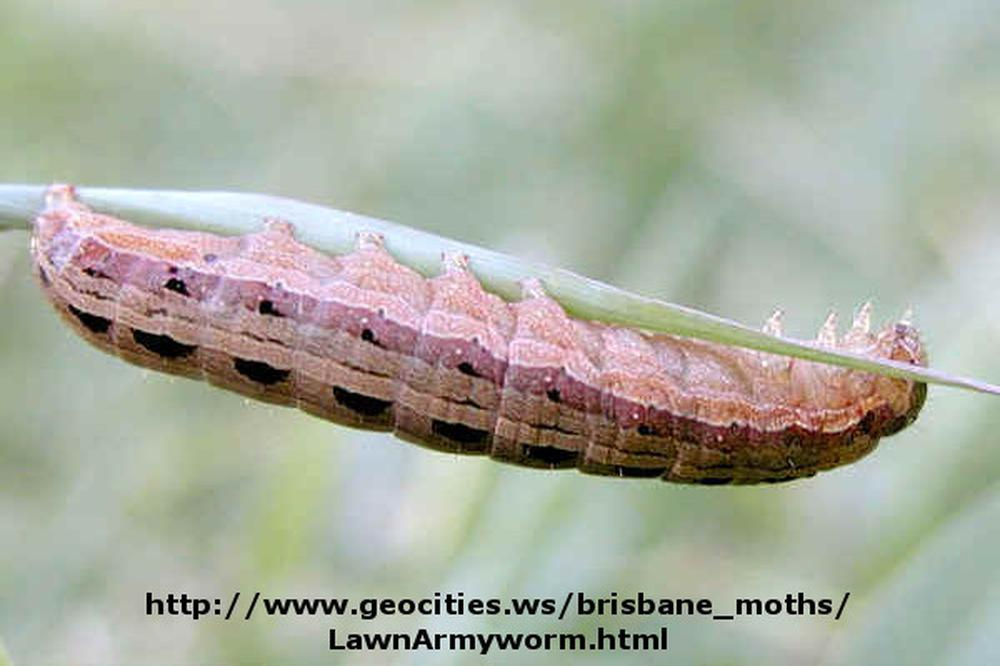Armyworm: (28, 165, 939, 518)
